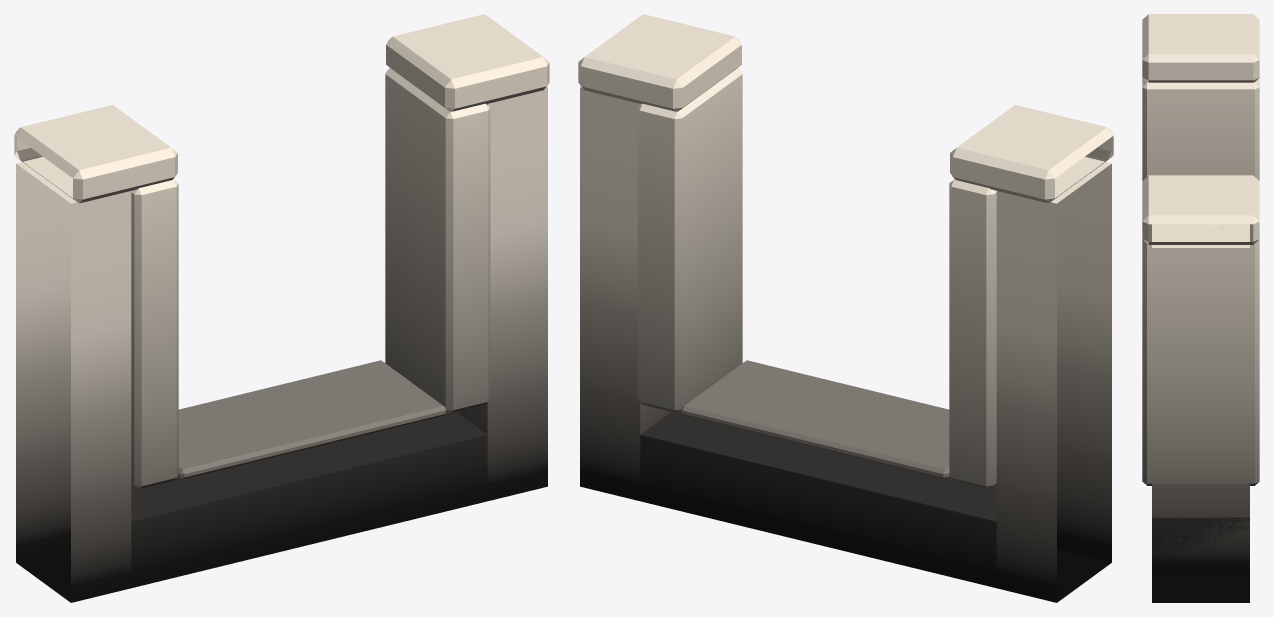
File: SM_VKI_Wall_Board_Door_150_Cut.fbx
3 views of the same model, side by side, from view 1: azimuth 30°, elevation 25°; view 2: azimuth 150°, elevation 25°; view 3: azimuth 270°, elevation 25° (orthographic). The views are drawn at different scales.
Parts seen in each view (by area): view 1: SM_VKI_Wall_Board_Door_150_Cut.001; view 2: SM_VKI_Wall_Board_Door_150_Cut.001; view 3: SM_VKI_Wall_Board_Door_150_Cut.001.
Boxes of the visible parts, <box> form: SM_VKI_Wall_Board_Door_150_Cut.001: <box>14,14,549,602</box>; SM_VKI_Wall_Board_Door_150_Cut.001: <box>578,14,1113,602</box>; SM_VKI_Wall_Board_Door_150_Cut.001: <box>1142,14,1259,602</box>.
Size of the model in its own units: 1.5 by 1.3 by 0.36.
